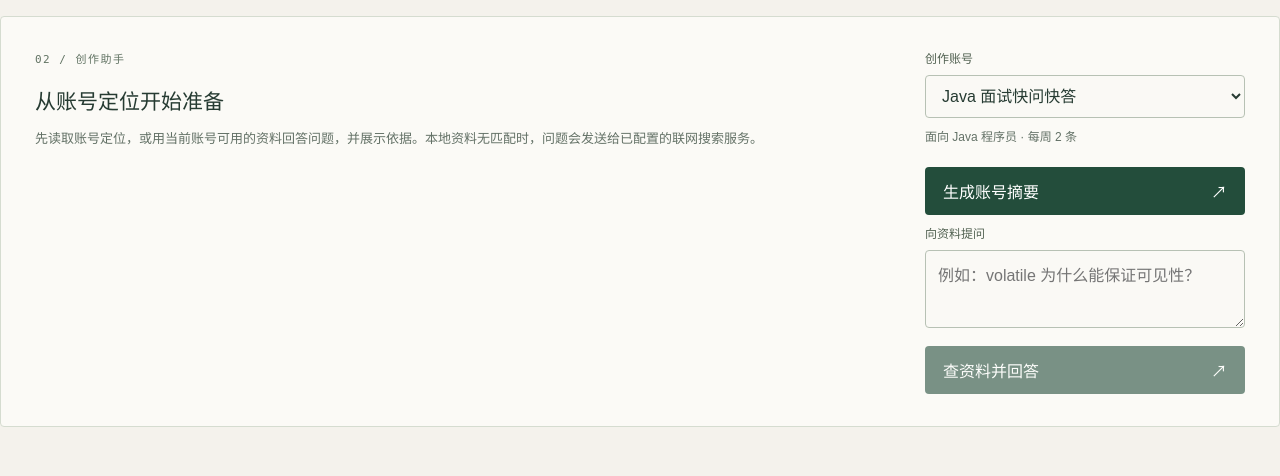
creator chat › makes an unconfigured model visible instead of inventing a summary
Click the button "生成账号摘要 ↗" at (991, 192), box [925,167,1245,215]
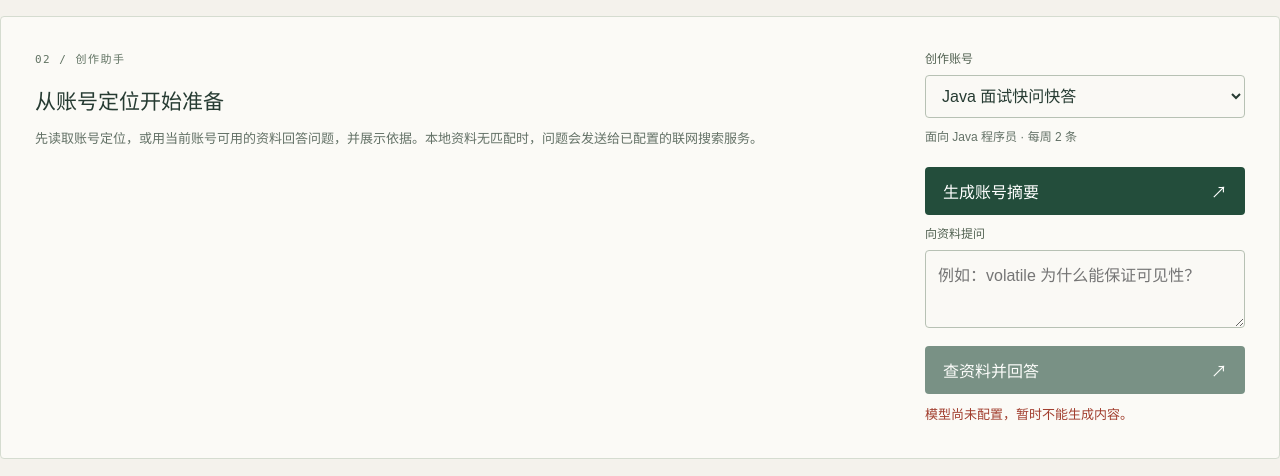
Expected: the message "模型尚未配置，暂时不能生成内容。" is shown, [925,407,1133,422]
